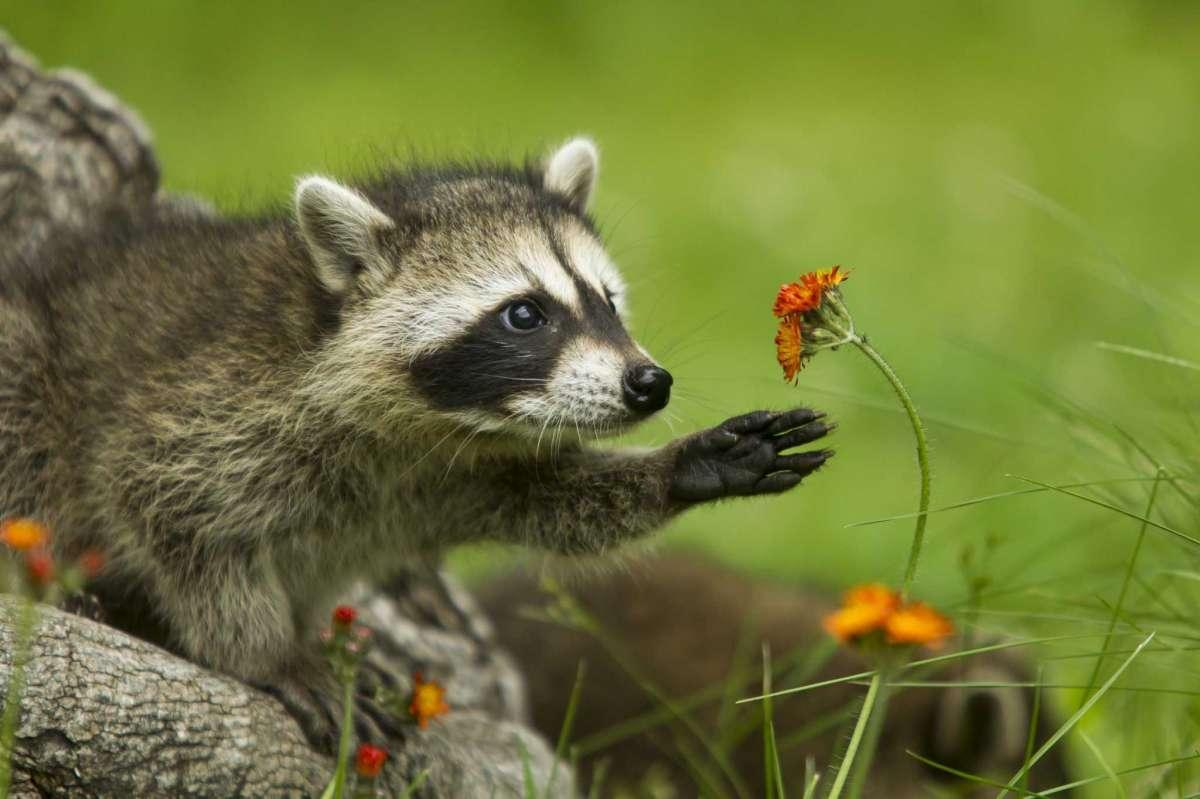raccoon: (0, 195, 836, 752)
